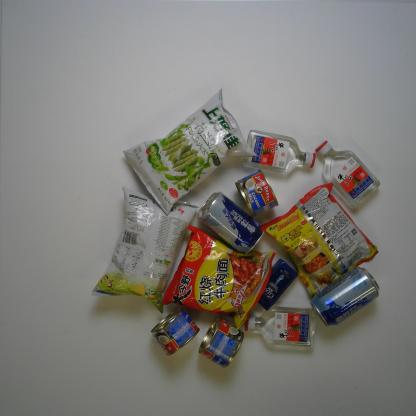Alcohol: (314, 139, 382, 213), (309, 264, 381, 329), (196, 191, 265, 255), (241, 127, 318, 178), (244, 305, 320, 350)
Canned Food: (149, 305, 201, 358), (198, 315, 244, 370), (234, 168, 280, 219)
Instant Noodles: (259, 180, 380, 298), (161, 223, 276, 333)
Personal Hygiene: (256, 257, 299, 312)
Puffed Food: (121, 86, 258, 217), (89, 184, 200, 317)
